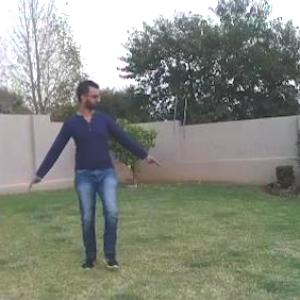land: (11, 75, 171, 286)
